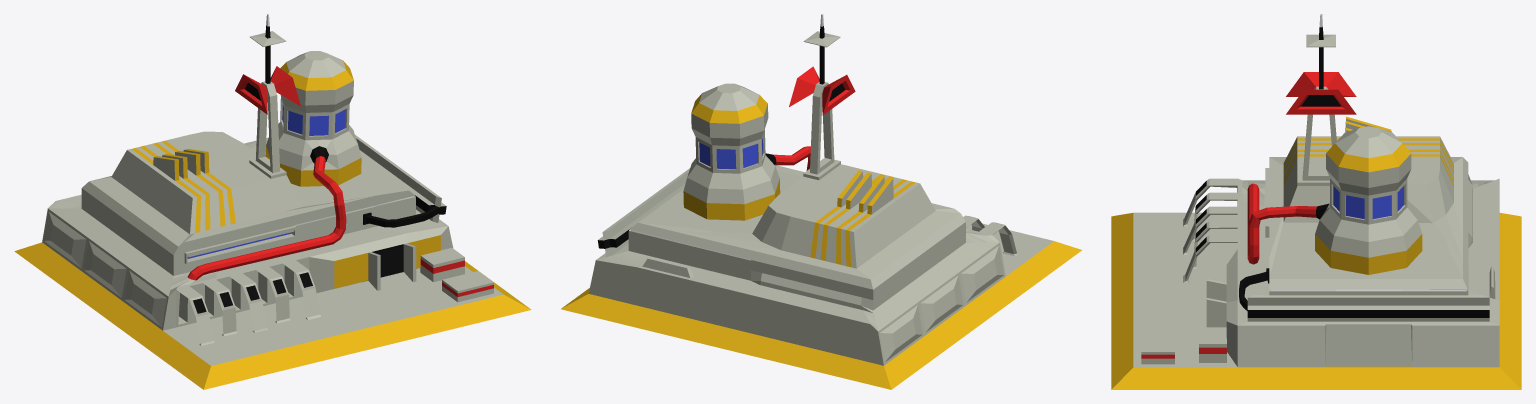
The model's file is _ase 1.0.fbx.
The picture shows the model from 3 angles, left to right: view 1: azimuth 30°, elevation 25°; view 2: azimuth 150°, elevation 25°; view 3: azimuth 270°, elevation 25°; orthographic projection. The views are drawn at different scales.
Visible parts, largest first — view 1: base; view 2: base; view 3: base.
Boxes of the visible parts, box(x1,y1,x2,y2) form: base: box(14, 14, 531, 389); base: box(561, 14, 1081, 389); base: box(1111, 14, 1521, 389).
Bounding box in the file's own units: 5667 × 4376 × 5667.
